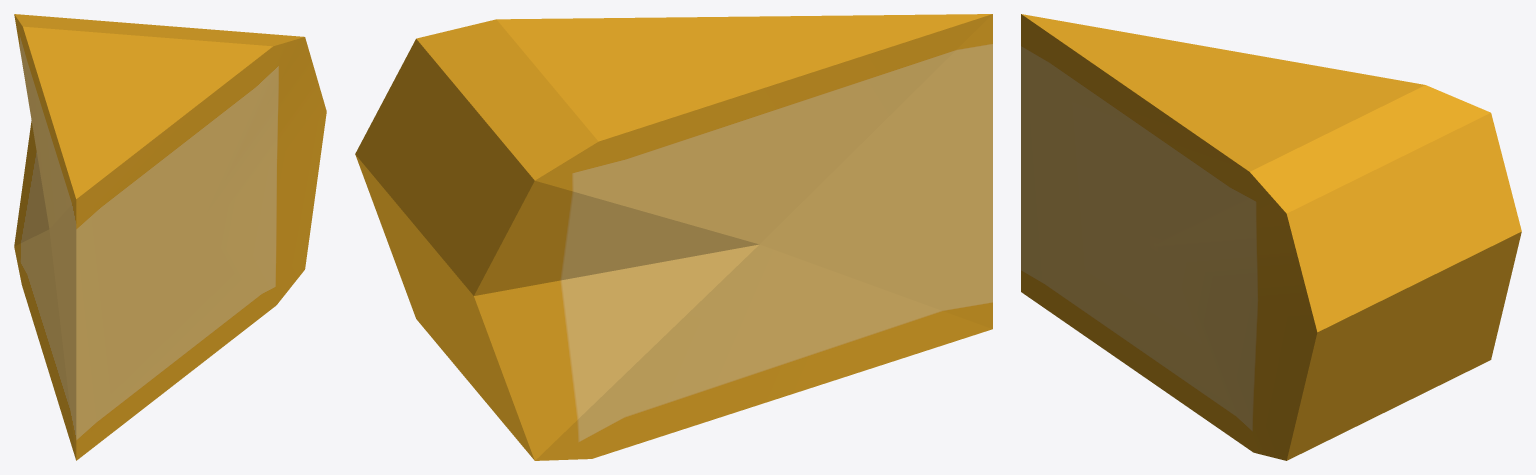
The model's file is cheese.fbx.
The picture shows the model from 3 angles, left to right: view 1: azimuth 30°, elevation 25°; view 2: azimuth 150°, elevation 25°; view 3: azimuth 270°, elevation 25°; orthographic projection. The views are drawn at different scales.
Visible parts, largest first — view 1: Cylinder.001; view 2: Cylinder.001; view 3: Cylinder.001.
Part boxes in pixels (x1,y1,x2,y2): Cylinder.001: [14, 14, 326, 460]; Cylinder.001: [355, 14, 992, 460]; Cylinder.001: [1021, 14, 1521, 460].
Size of the model in its own units: 94.03 by 60.29 by 98.4.
